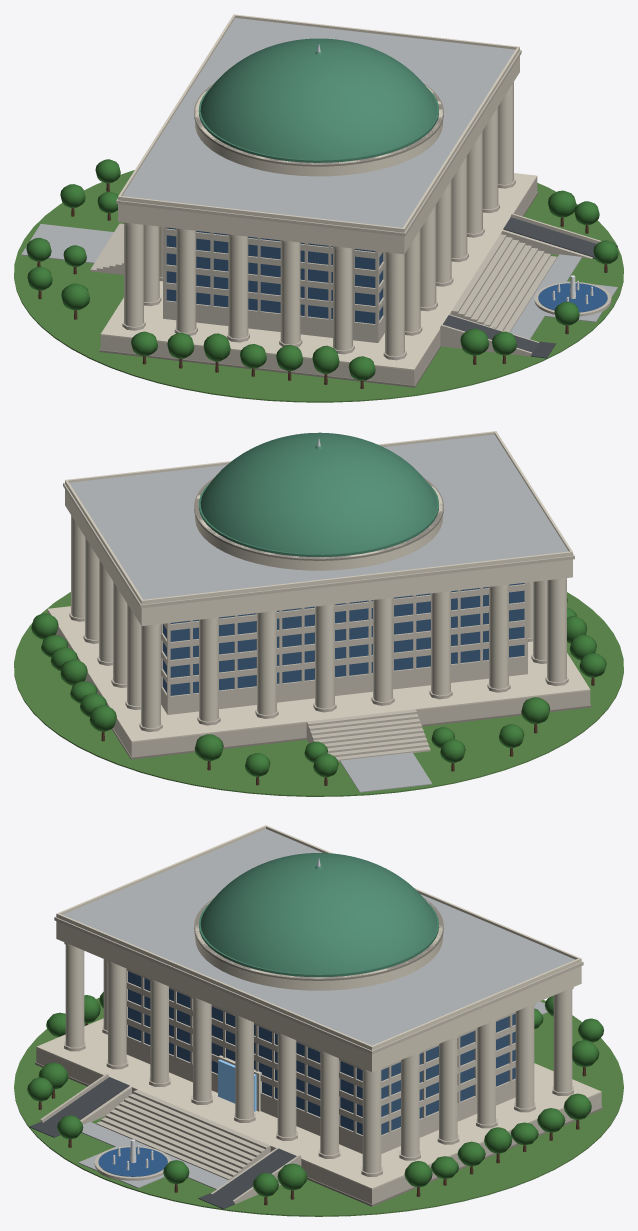
Rendered from national-assembly.glb.
3 renders of one model, top to bottom at view 1: azimuth 30°, elevation 25°; view 2: azimuth 150°, elevation 25°; view 3: azimuth 270°, elevation 25°, orthographic.
Size of the model in its own units: 167 by 69.1 by 167.
